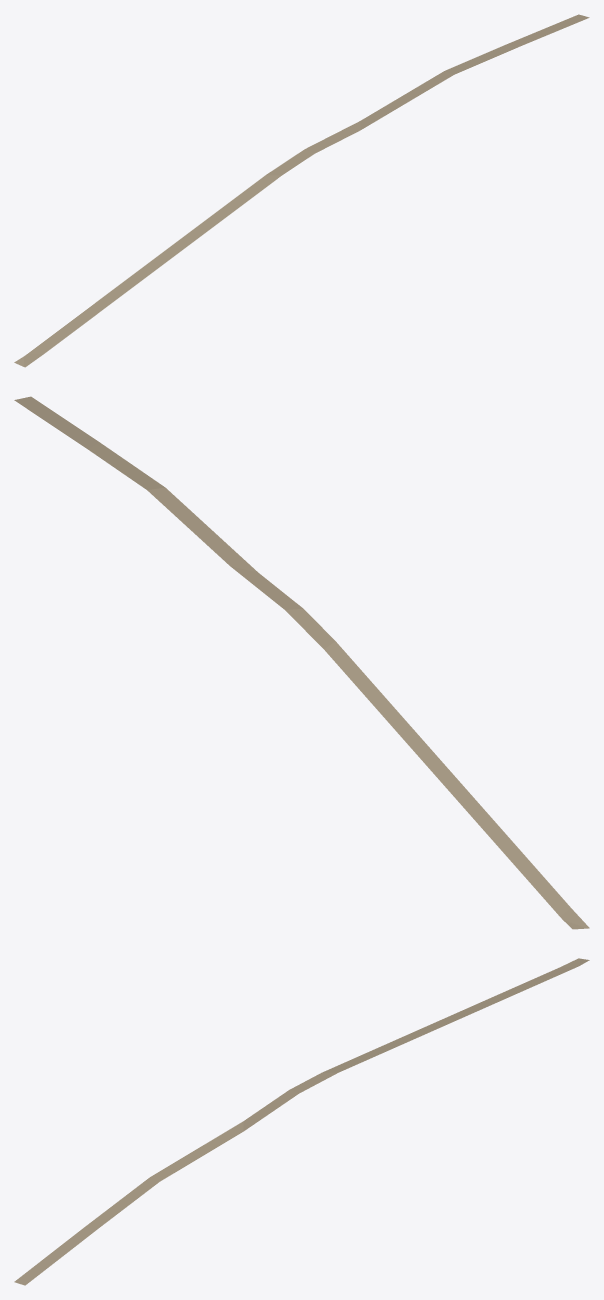
Rendered from farm_-38_-32_track.glb.
3 renders of one model, top to bottom at view 1: azimuth 90°, elevation 25°; view 2: azimuth 150°, elevation 25°; view 3: azimuth 270°, elevation 25°, orthographic. The views are drawn at different scales.
Parts seen in each view (by area): view 1: geometry_0; view 2: geometry_0; view 3: geometry_0.
Part boxes in pixels (x1,y1,x2,y2): geometry_0: (14, 14, 589, 367); geometry_0: (14, 396, 589, 929); geometry_0: (14, 958, 589, 1285).
Size of the model in its own units: 192 by 10.9 by 137.
